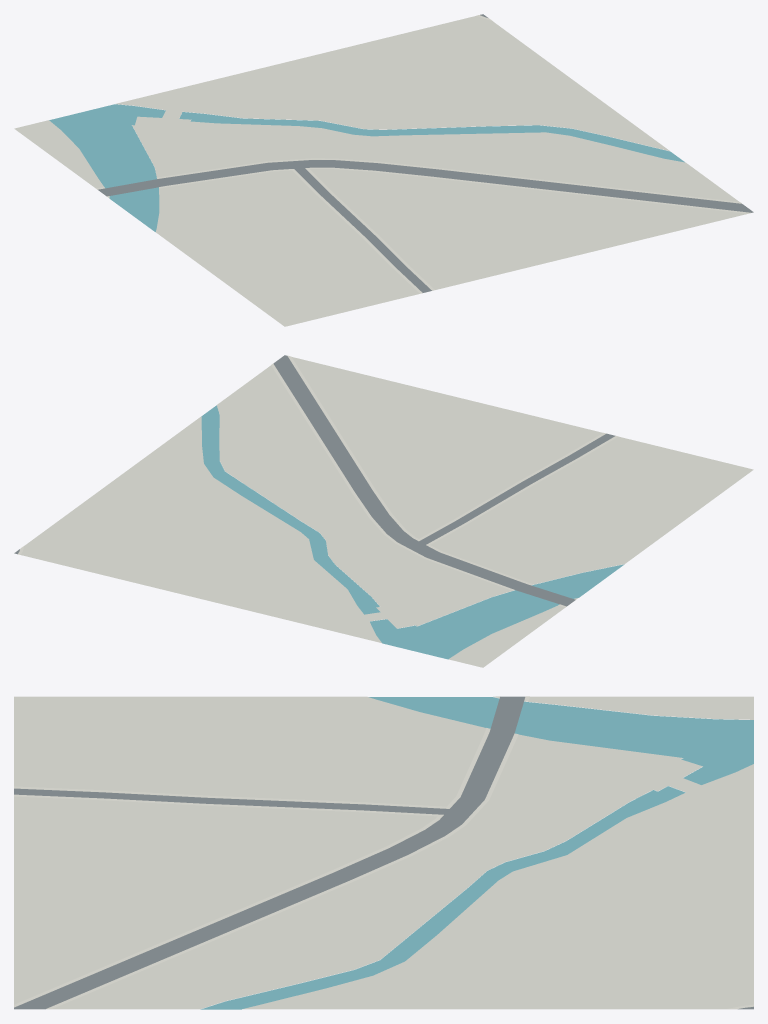
3 renders of one model, top to bottom at view 1: azimuth 30°, elevation 25°; view 2: azimuth 150°, elevation 25°; view 3: azimuth 270°, elevation 25°, orthographic. The views are drawn at different scales.
Visible parts, largest first — view 1: city; view 2: city; view 3: city.
Part boxes in pixels (box(x1,y1,x2,y2)): city: box(14, 14, 753, 326); city: box(14, 355, 753, 667); city: box(14, 696, 753, 1009).
Size of the model in its own units: 500 by 0.4 by 500.
